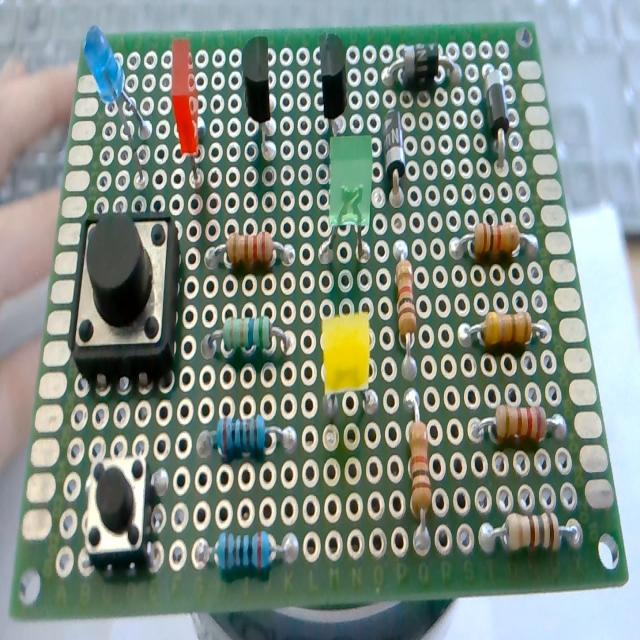diode: (384, 44, 459, 91), (482, 66, 514, 170), (382, 110, 409, 222)
led: (83, 24, 152, 181), (317, 152, 373, 267), (320, 309, 376, 418), (169, 40, 205, 194)
resistor: (197, 529, 302, 577), (198, 414, 296, 458), (480, 510, 580, 552), (202, 315, 292, 358), (204, 231, 294, 272), (405, 391, 432, 525), (474, 405, 562, 446), (461, 313, 548, 351), (454, 223, 538, 261), (396, 250, 418, 376)
switch: (67, 210, 179, 386), (82, 448, 167, 572)
transistor: (241, 34, 278, 160), (318, 31, 349, 134)
